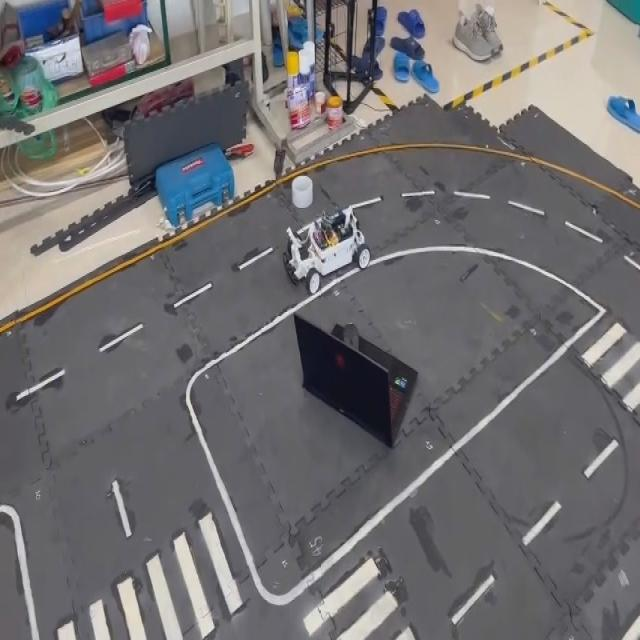SiCo-CAR: (283, 198, 372, 294)
